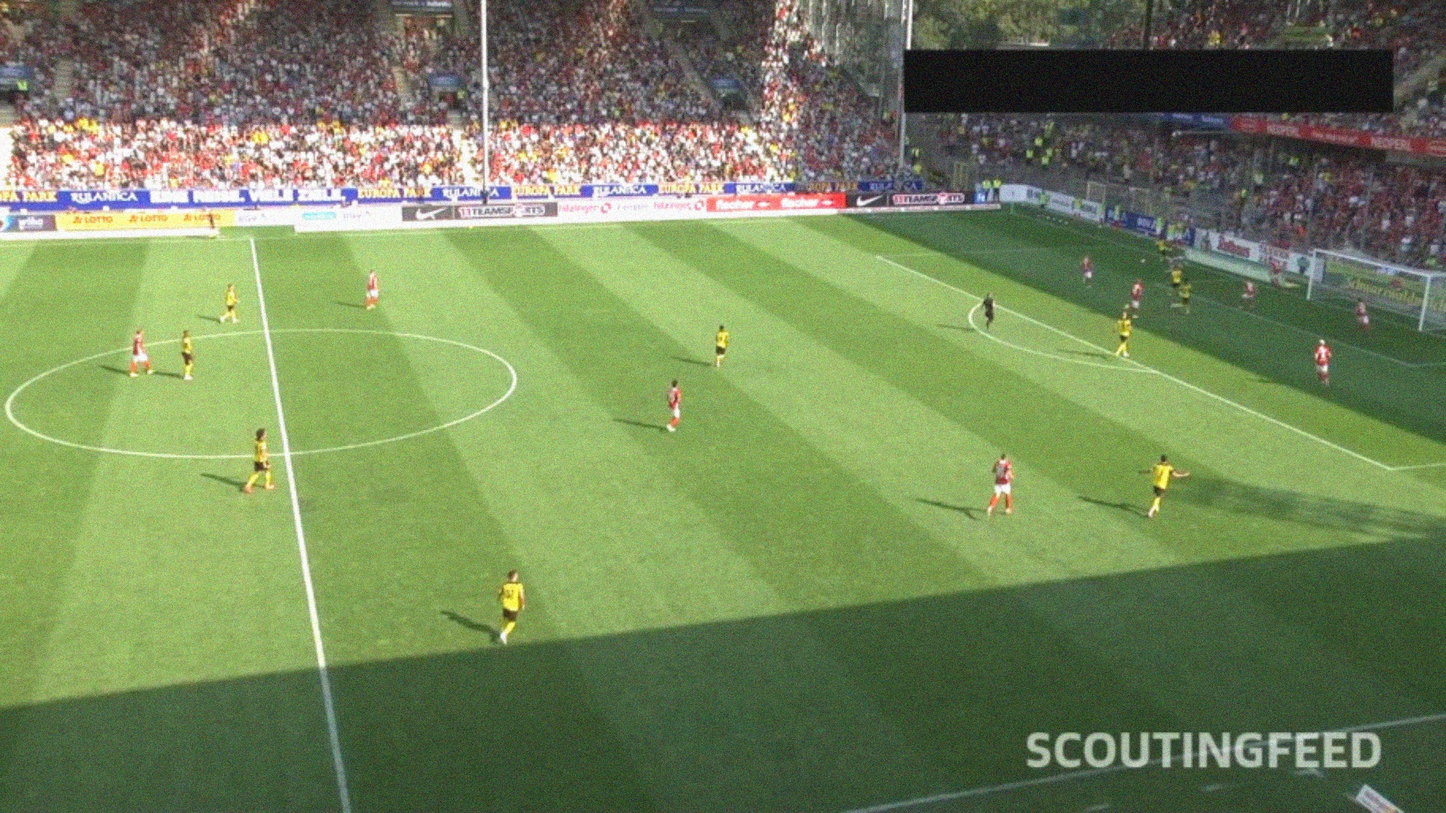ball: (1139, 257, 1147, 264)
player: (494, 571, 527, 648), (1141, 458, 1177, 522), (980, 453, 1017, 515), (243, 425, 276, 493), (120, 328, 162, 379), (661, 379, 687, 437), (1310, 334, 1336, 387), (358, 272, 386, 319), (213, 286, 245, 326), (175, 327, 200, 378), (1113, 311, 1137, 356), (1351, 292, 1373, 332), (1237, 274, 1259, 313), (1266, 254, 1287, 294), (1170, 279, 1192, 315), (714, 324, 731, 368), (1167, 263, 1186, 301), (1128, 279, 1146, 314), (1078, 257, 1096, 289), (1158, 236, 1172, 269)
referee: (978, 293, 1000, 337), (205, 208, 222, 241)
